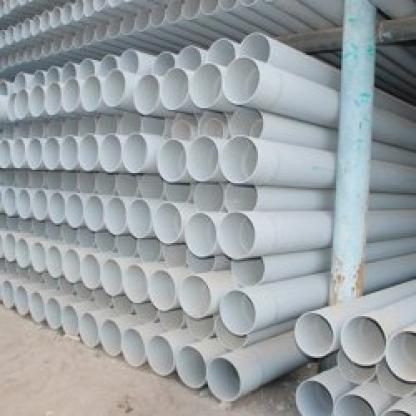PVC: (2, 2, 414, 414)
